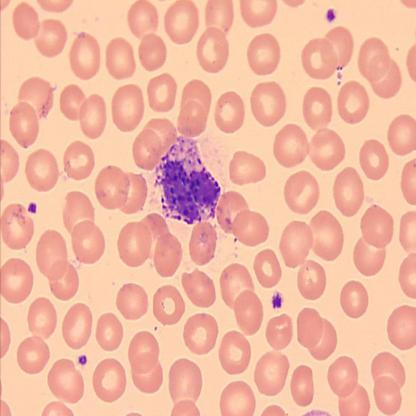Basophil: (154, 139, 224, 226)
